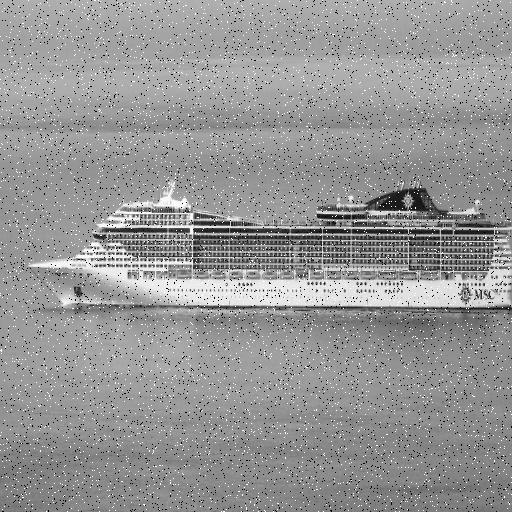cruises: (22, 169, 512, 320)
